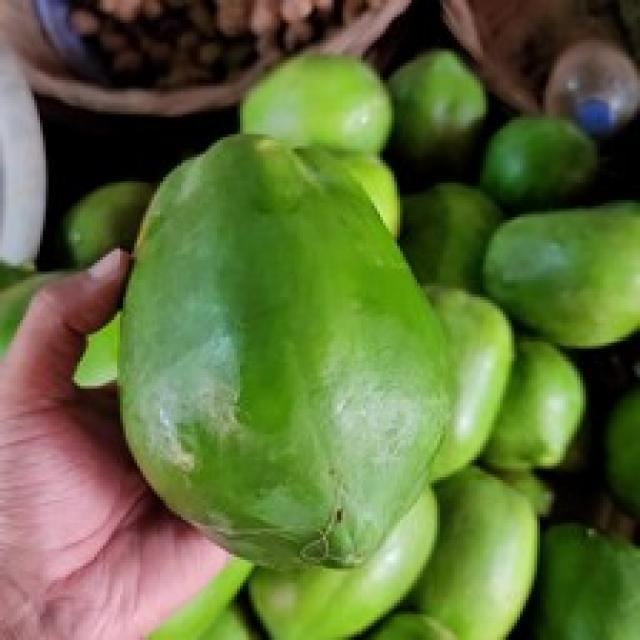Pepaya unrippen: (110, 131, 459, 579)
